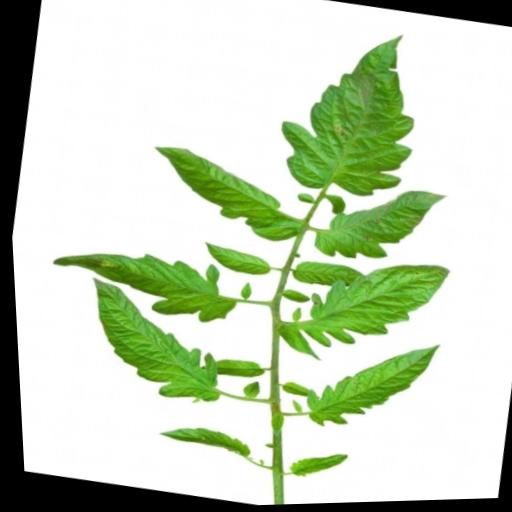Healthy: (70, 273, 234, 409), (140, 140, 311, 249), (295, 325, 441, 447), (152, 419, 249, 459), (287, 257, 364, 295), (199, 241, 272, 279), (281, 444, 346, 486), (212, 355, 263, 382)
Septoria: (266, 17, 433, 206), (266, 240, 453, 383), (306, 173, 449, 277)
